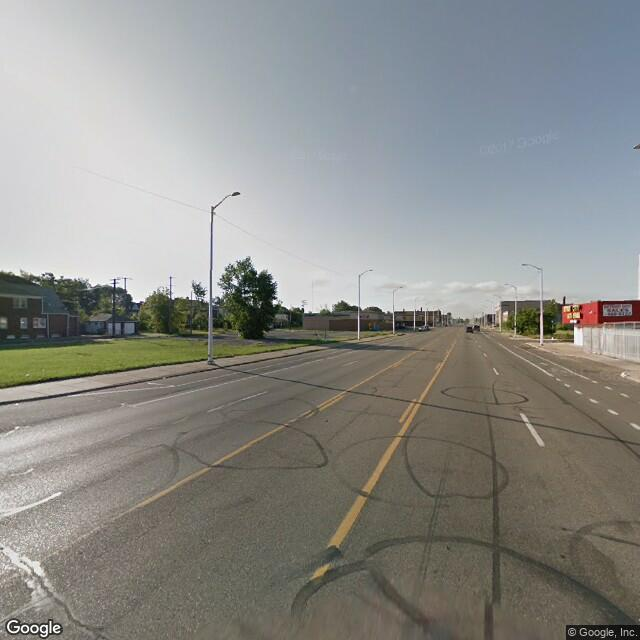litter: (23, 370, 33, 381), (620, 371, 628, 380), (15, 401, 18, 404)
